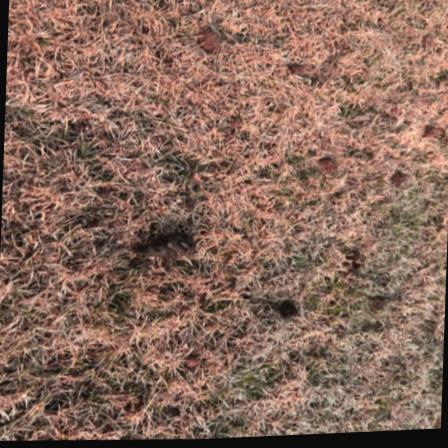dog-poop: (132, 220, 197, 276)
